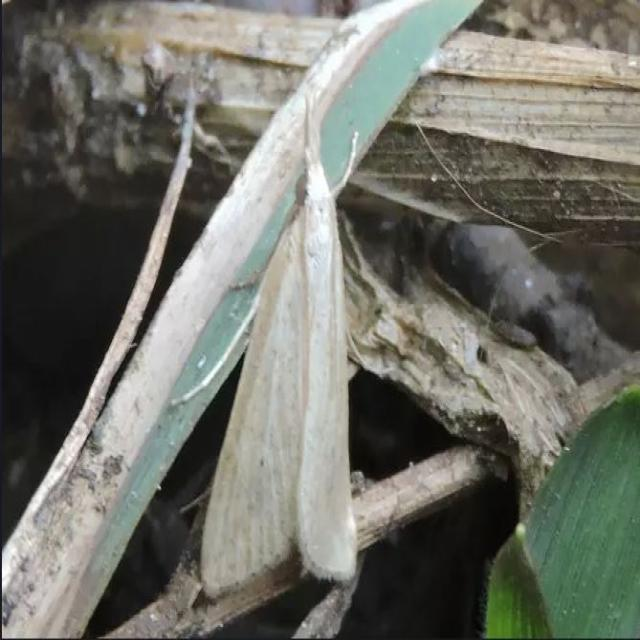rice stem borer -penggerek batang padi-: (170, 74, 370, 600)
